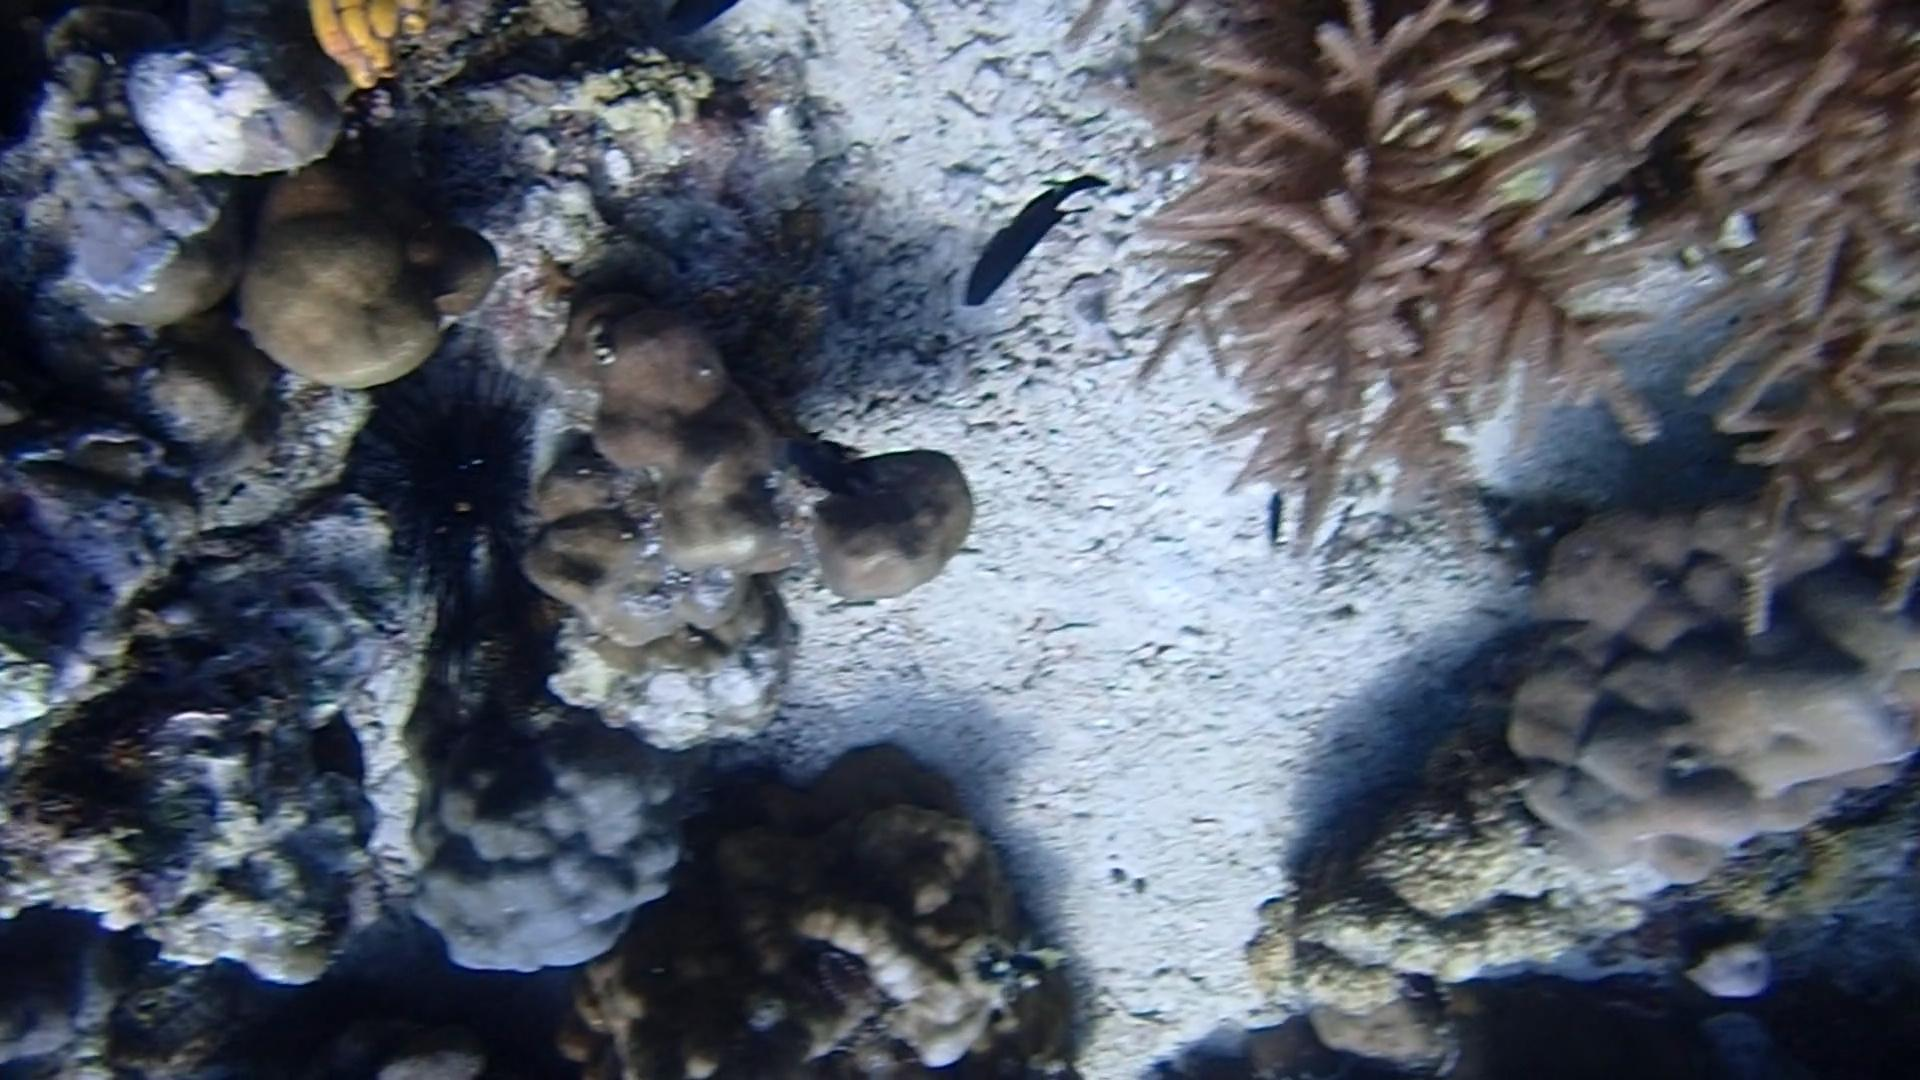Dark Fish: (956, 167, 1121, 314), (783, 423, 872, 509), (662, 0, 736, 45)
Yellow Tail: (1009, 932, 1079, 984), (1259, 487, 1292, 554)
